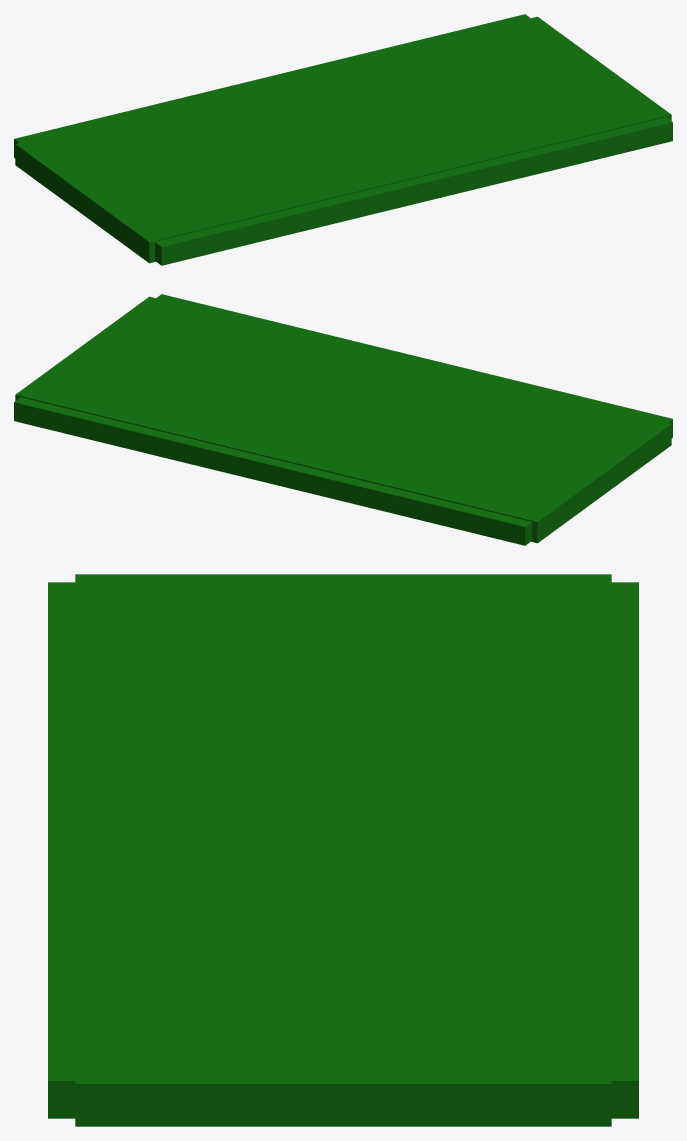
3 views of the same model, one above another, from view 1: azimuth 30°, elevation 25°; view 2: azimuth 150°, elevation 25°; view 3: azimuth 270°, elevation 25° (orthographic). The views are drawn at different scales.
Parts seen in each view (by area): view 1: Cube.002, Cube.001; view 2: Cube.002, Cube.001; view 3: Cube.002, Cube.001.
Part boxes in pixels (x1,y1,x2,y2): Cube.002: (15,16,671,263); Cube.001: (14,14,672,265); Cube.002: (15,296,671,543); Cube.001: (14,294,672,545); Cube.002: (75,574,611,1126); Cube.001: (48,582,638,1118).
Bounding box in the file's own units: 180 × 7 × 88.2.
